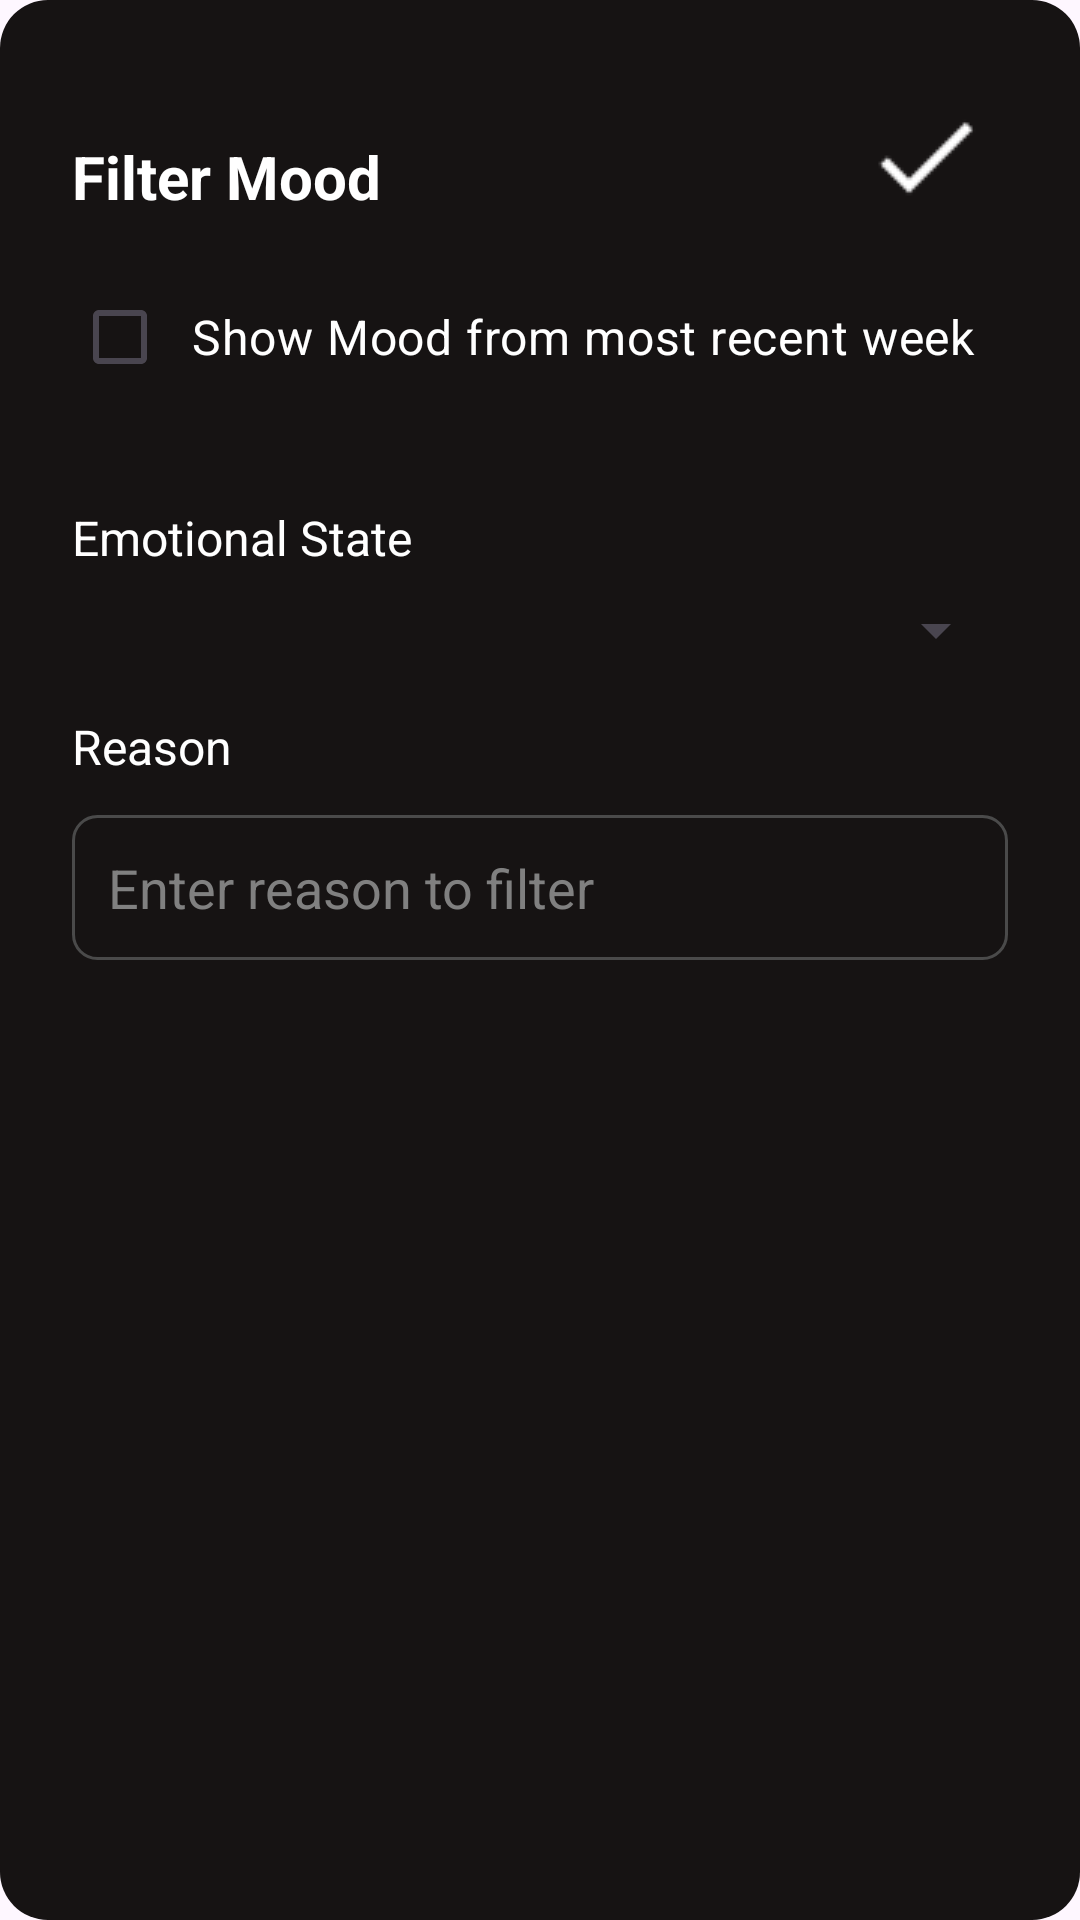

Icon bounding boxes for this 1080 × 1920 phone screenshot, format (x1, y1, x2, y2):
Apply Filter: (879, 122, 973, 193)
